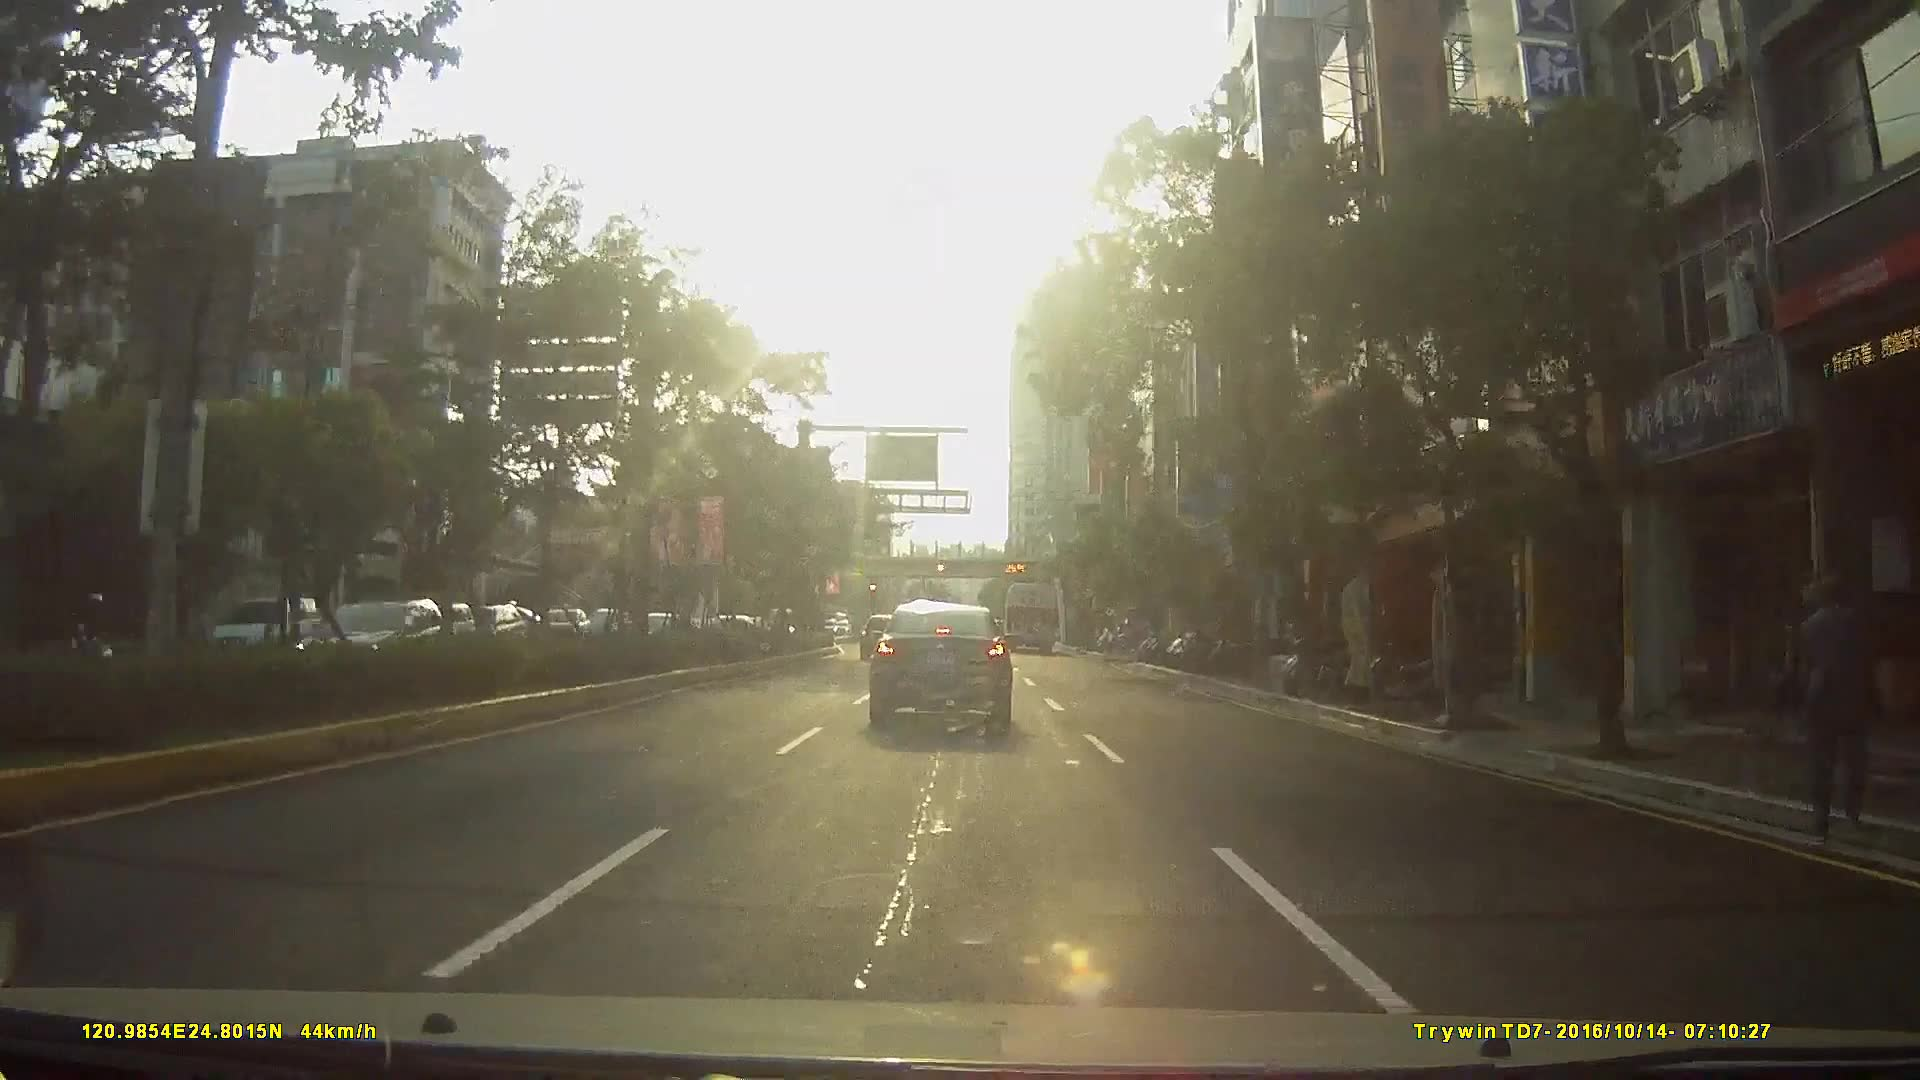pedestrian: (1788, 559, 1886, 847)
vehicle: (865, 597, 1014, 725), (290, 596, 466, 684), (197, 595, 317, 666), (999, 579, 1059, 649), (462, 601, 523, 647), (415, 601, 473, 648), (536, 607, 590, 643), (858, 613, 899, 660)
